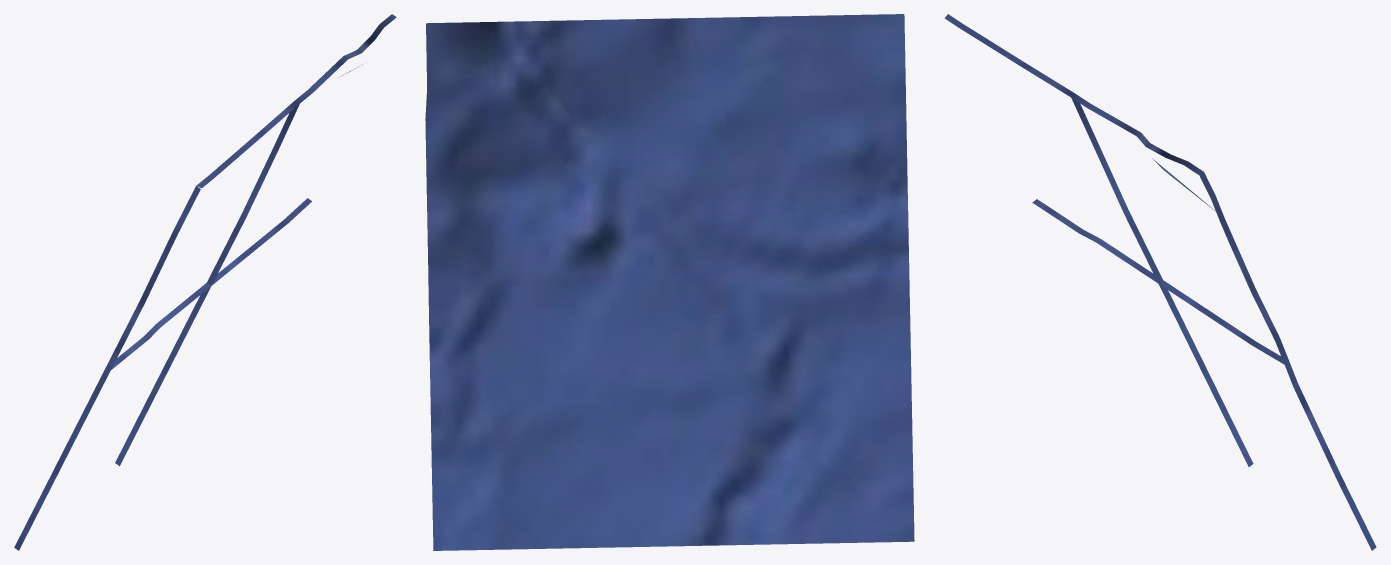
3 views of the same model, side by side, from view 1: azimuth 30°, elevation 25°; view 2: azimuth 150°, elevation 25°; view 3: azimuth 270°, elevation 25° (orthographic). The views are drawn at different scales.
Size of the model in its own units: 19349 by 18064 by 16747.
Materials: 1 (1 with a texture image).
